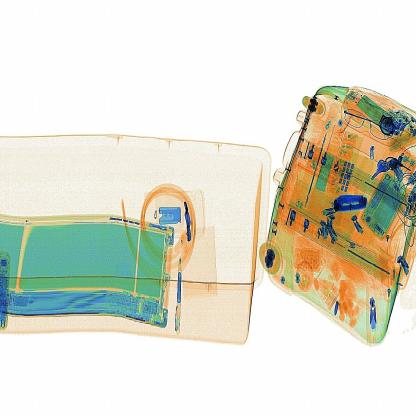scissors: (330, 182, 371, 215)
